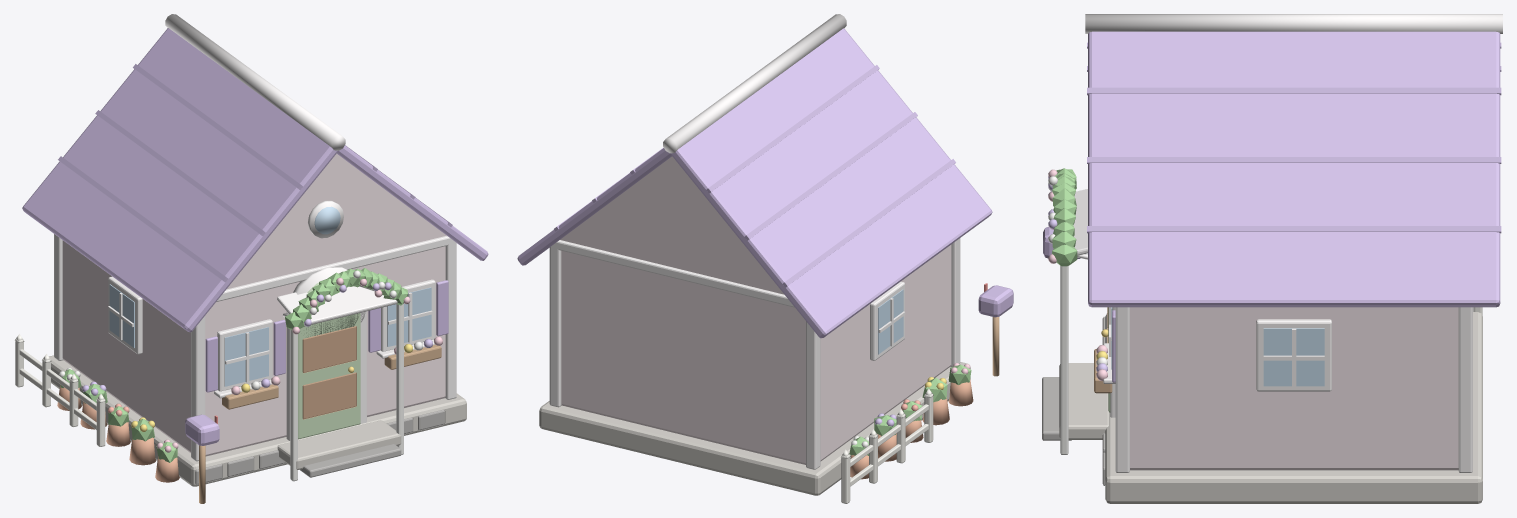
File: casa_lila.glb
3 views of the same model, side by side, from view 1: azimuth 30°, elevation 25°; view 2: azimuth 150°, elevation 25°; view 3: azimuth 270°, elevation 25° (orthographic). The views are drawn at different scales.
Parts seen in each view (by area): view 1: casa_lila; view 2: casa_lila; view 3: casa_lila.
Part boxes in pixels (x1,y1,x2,y2): casa_lila: (14, 14, 488, 503); casa_lila: (517, 14, 1013, 503); casa_lila: (1042, 14, 1502, 503).
Bounding box in the file's own units: 4.5 × 4.4 × 4.52.
